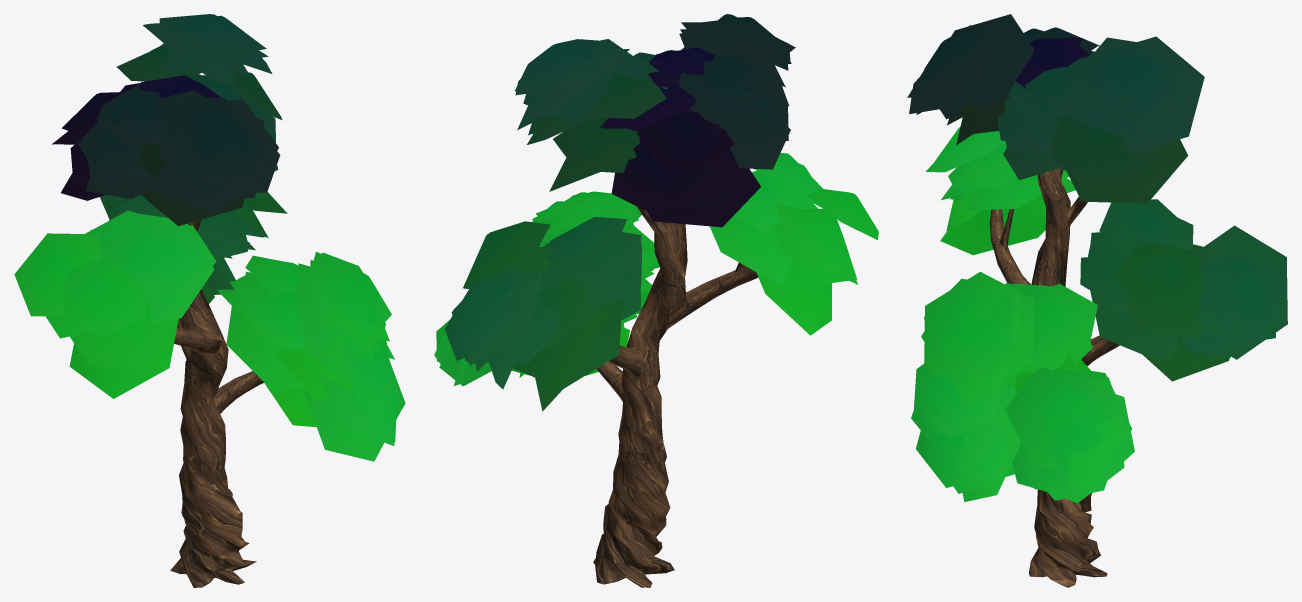
File: FantasyTree7.fbx
The picture shows the model from 3 angles, left to right: view 1: azimuth 30°, elevation 25°; view 2: azimuth 150°, elevation 25°; view 3: azimuth 270°, elevation 25°; orthographic projection. The views are drawn at different scales.
Parts seen in each view (by area): view 1: fantasyleaf1_alpha_1, tree2_0; view 2: fantasyleaf1_alpha_1, tree2_0; view 3: fantasyleaf1_alpha_1, tree2_0.
Boxes of the visible parts, left/top/right/bottom form: fantasyleaf1_alpha_1: left=14, top=14, right=405, bottom=461; tree2_0: left=170, top=220, right=263, bottom=587; fantasyleaf1_alpha_1: left=434, top=14, right=878, bottom=411; tree2_0: left=593, top=206, right=758, bottom=587; fantasyleaf1_alpha_1: left=907, top=14, right=1287, bottom=503; tree2_0: left=989, top=168, right=1119, bottom=587.
Size of the model in its own units: 685 by 914 by 601.
Materials: 1 (1 with a texture image).
